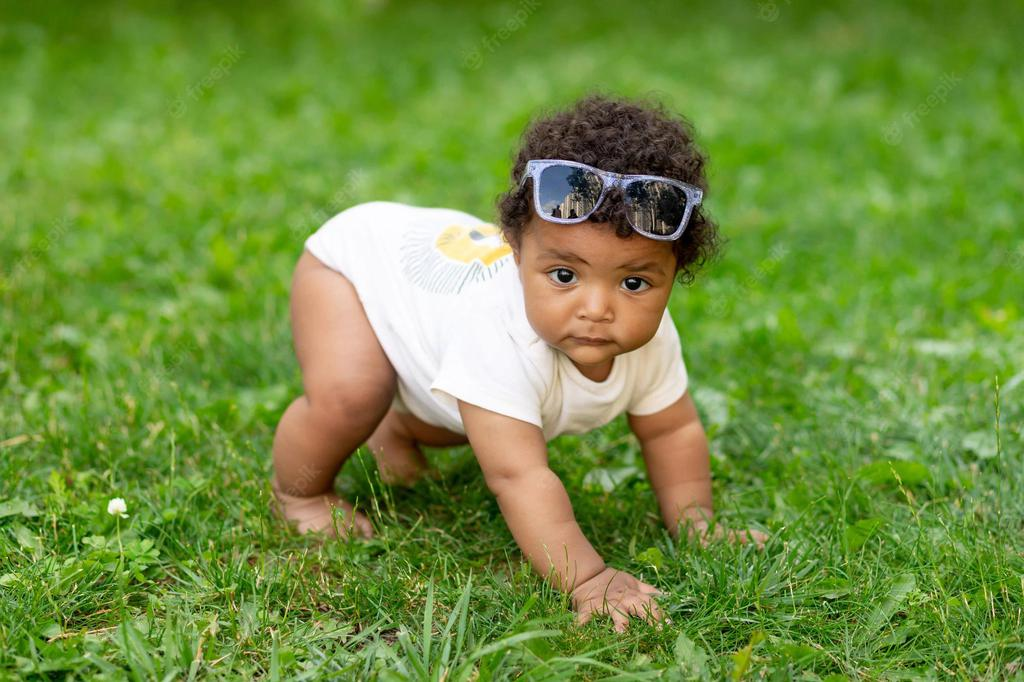child: (228, 88, 791, 635)
